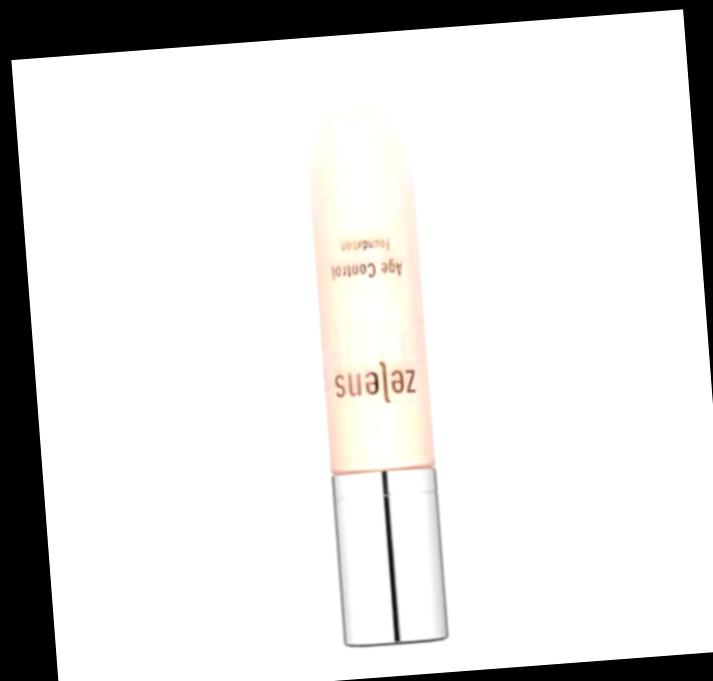cosmetic: (295, 52, 450, 651)
